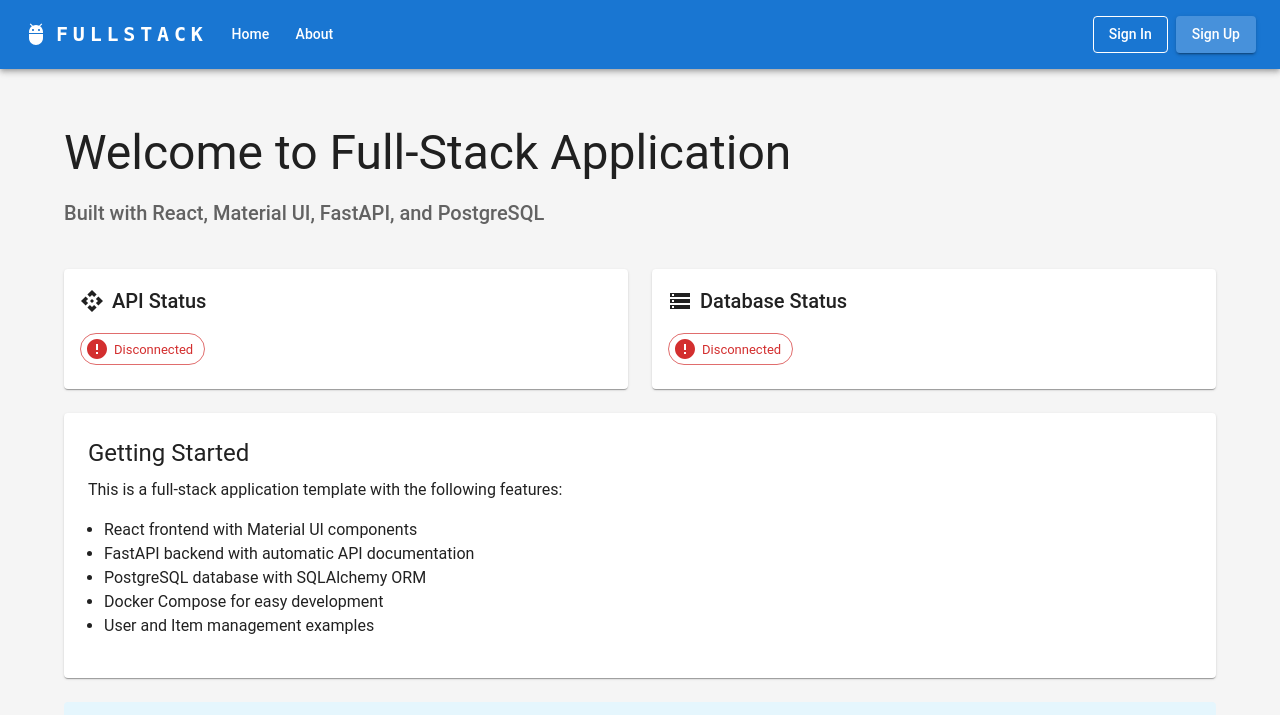
MUI Template - Homepage › should navigate to About page
Click the link "About".
click(315, 34)  # box [296,26,334,42]
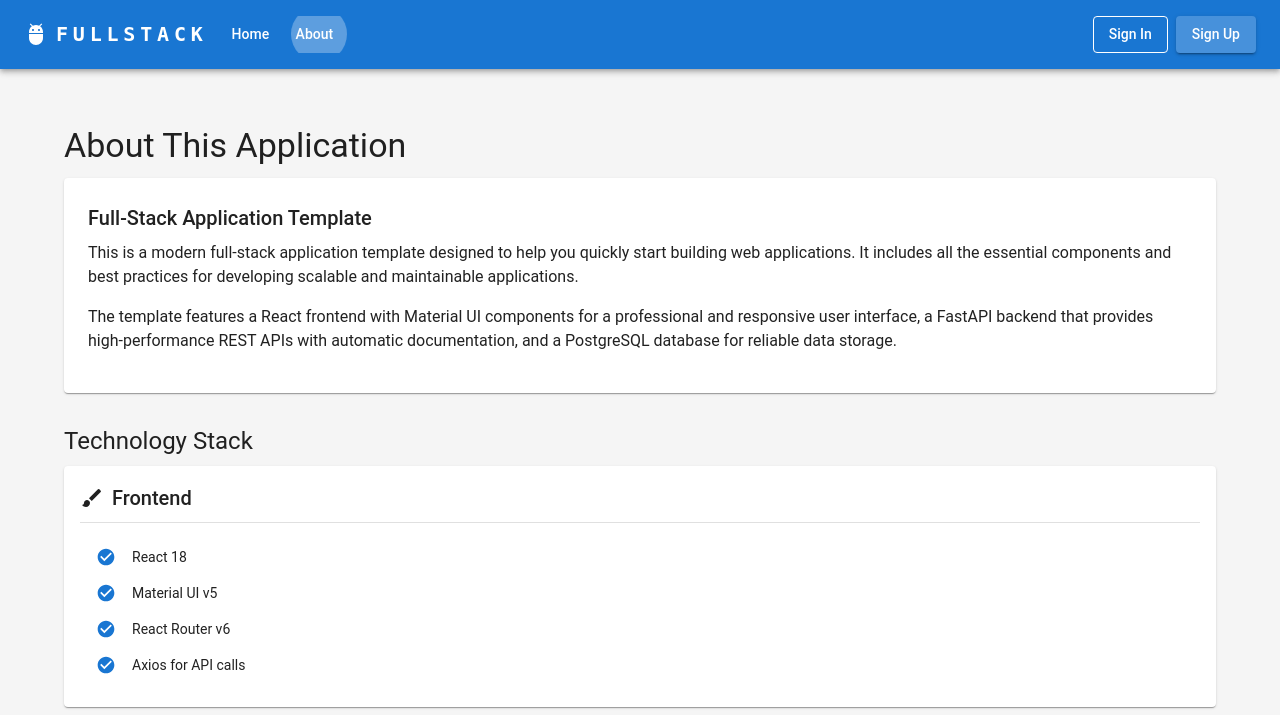
Check: the heading "About This Application" is shown, box [64,124,406,164]
